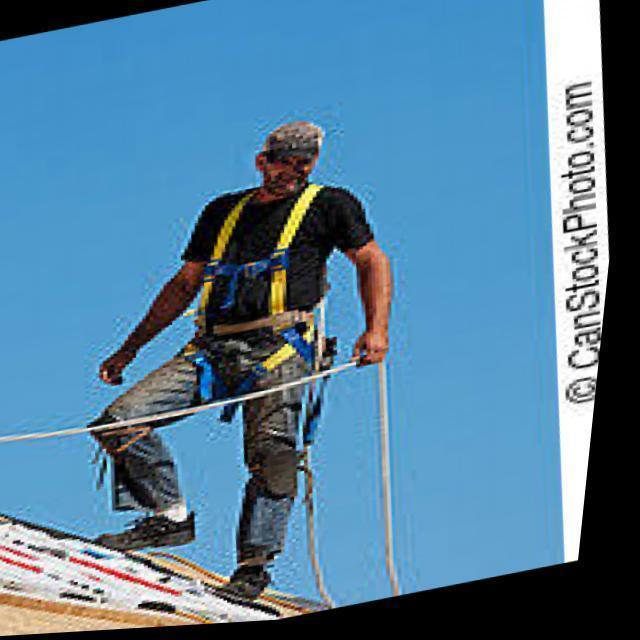Harness: (200, 184, 326, 332)
